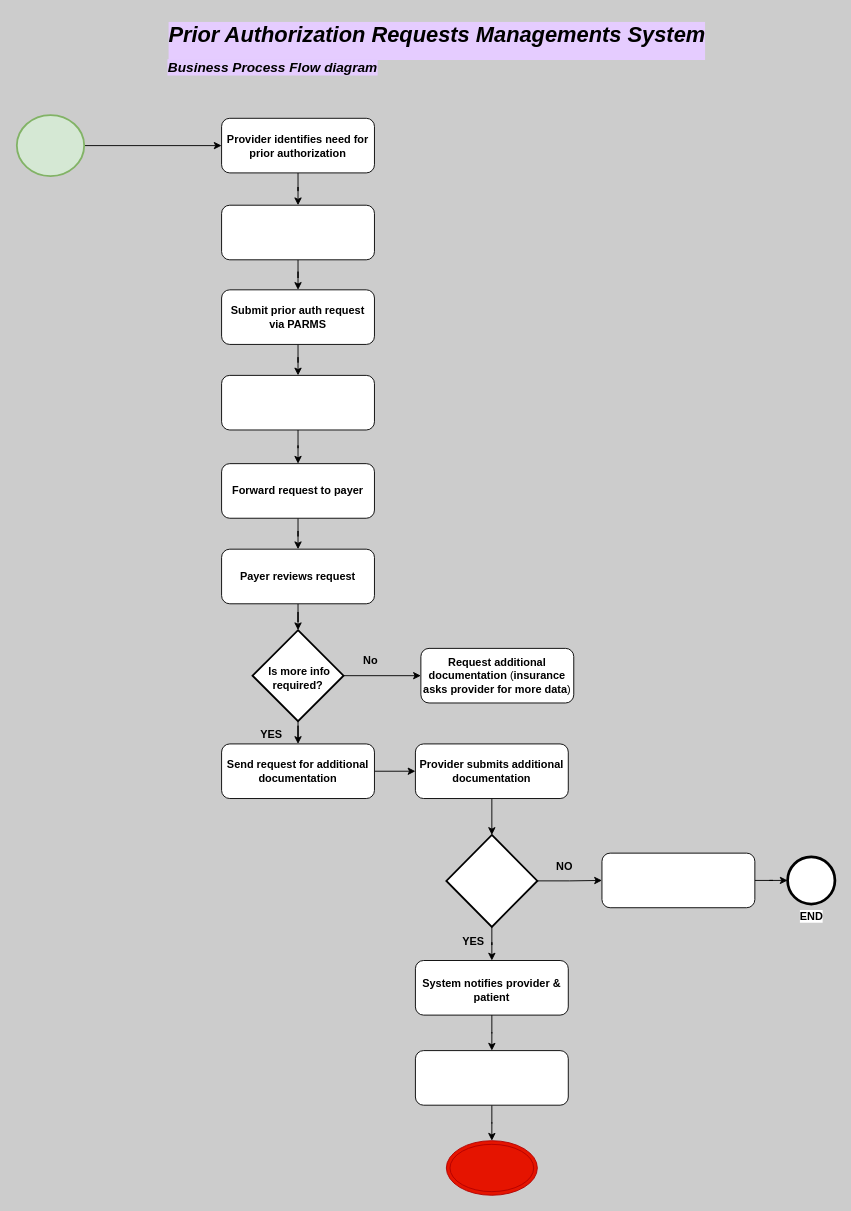
This 851x1211 diagram has some shape labels left out. Each missing label, with the centre of its shape:
Approved or Denied: the point at 491,880
Gather patient and treatment info: the point at 297,232
Notify provider & patient of denial: the point at 678,880
Provider proceeds with treatment (if approved): the point at 491,1077
System validates data completeness: the point at 297,402
